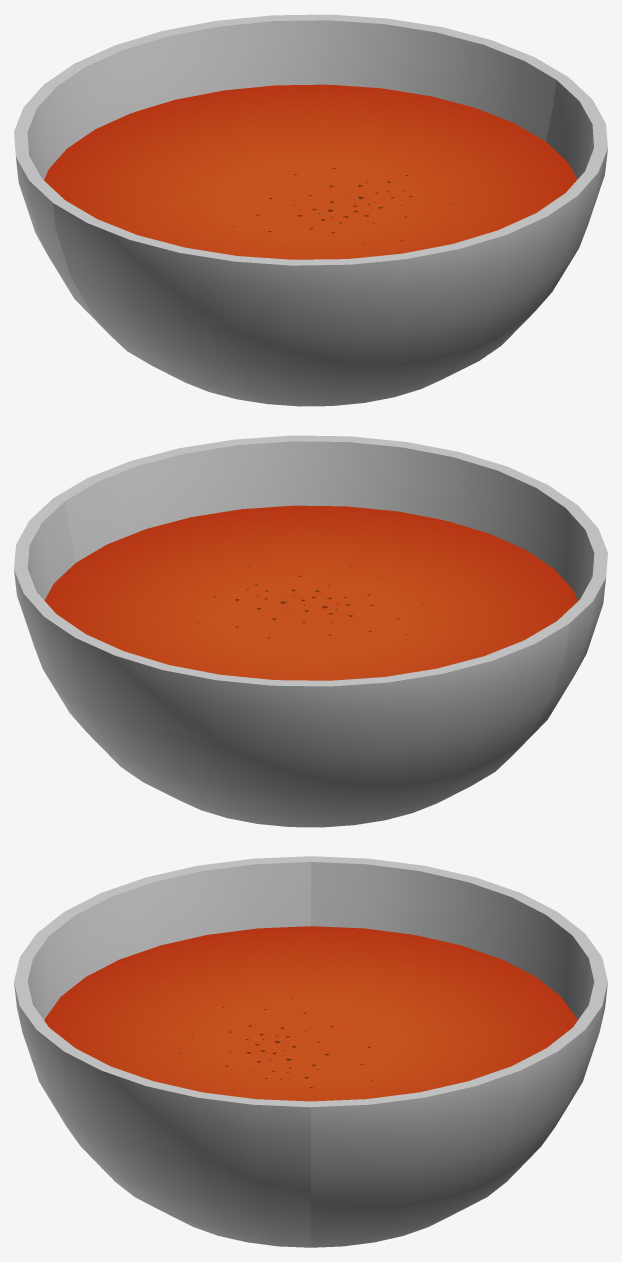
The model's file is Tomato Soup.fbx.
The picture shows the model from 3 angles, top to bottom: view 1: azimuth 30°, elevation 25°; view 2: azimuth 150°, elevation 25°; view 3: azimuth 270°, elevation 25°; orthographic projection.
Parts seen in each view (by area): view 1: TomatoSoup_1; view 2: TomatoSoup_1; view 3: TomatoSoup_1.
Part boxes in pixels (x1,y1,x2,y2): TomatoSoup_1: [14, 14, 607, 406]; TomatoSoup_1: [14, 435, 607, 827]; TomatoSoup_1: [14, 856, 607, 1247].
Size of the model in its own units: 57.86 by 21.03 by 57.86.
Materials: 1 (1 with a texture image).
